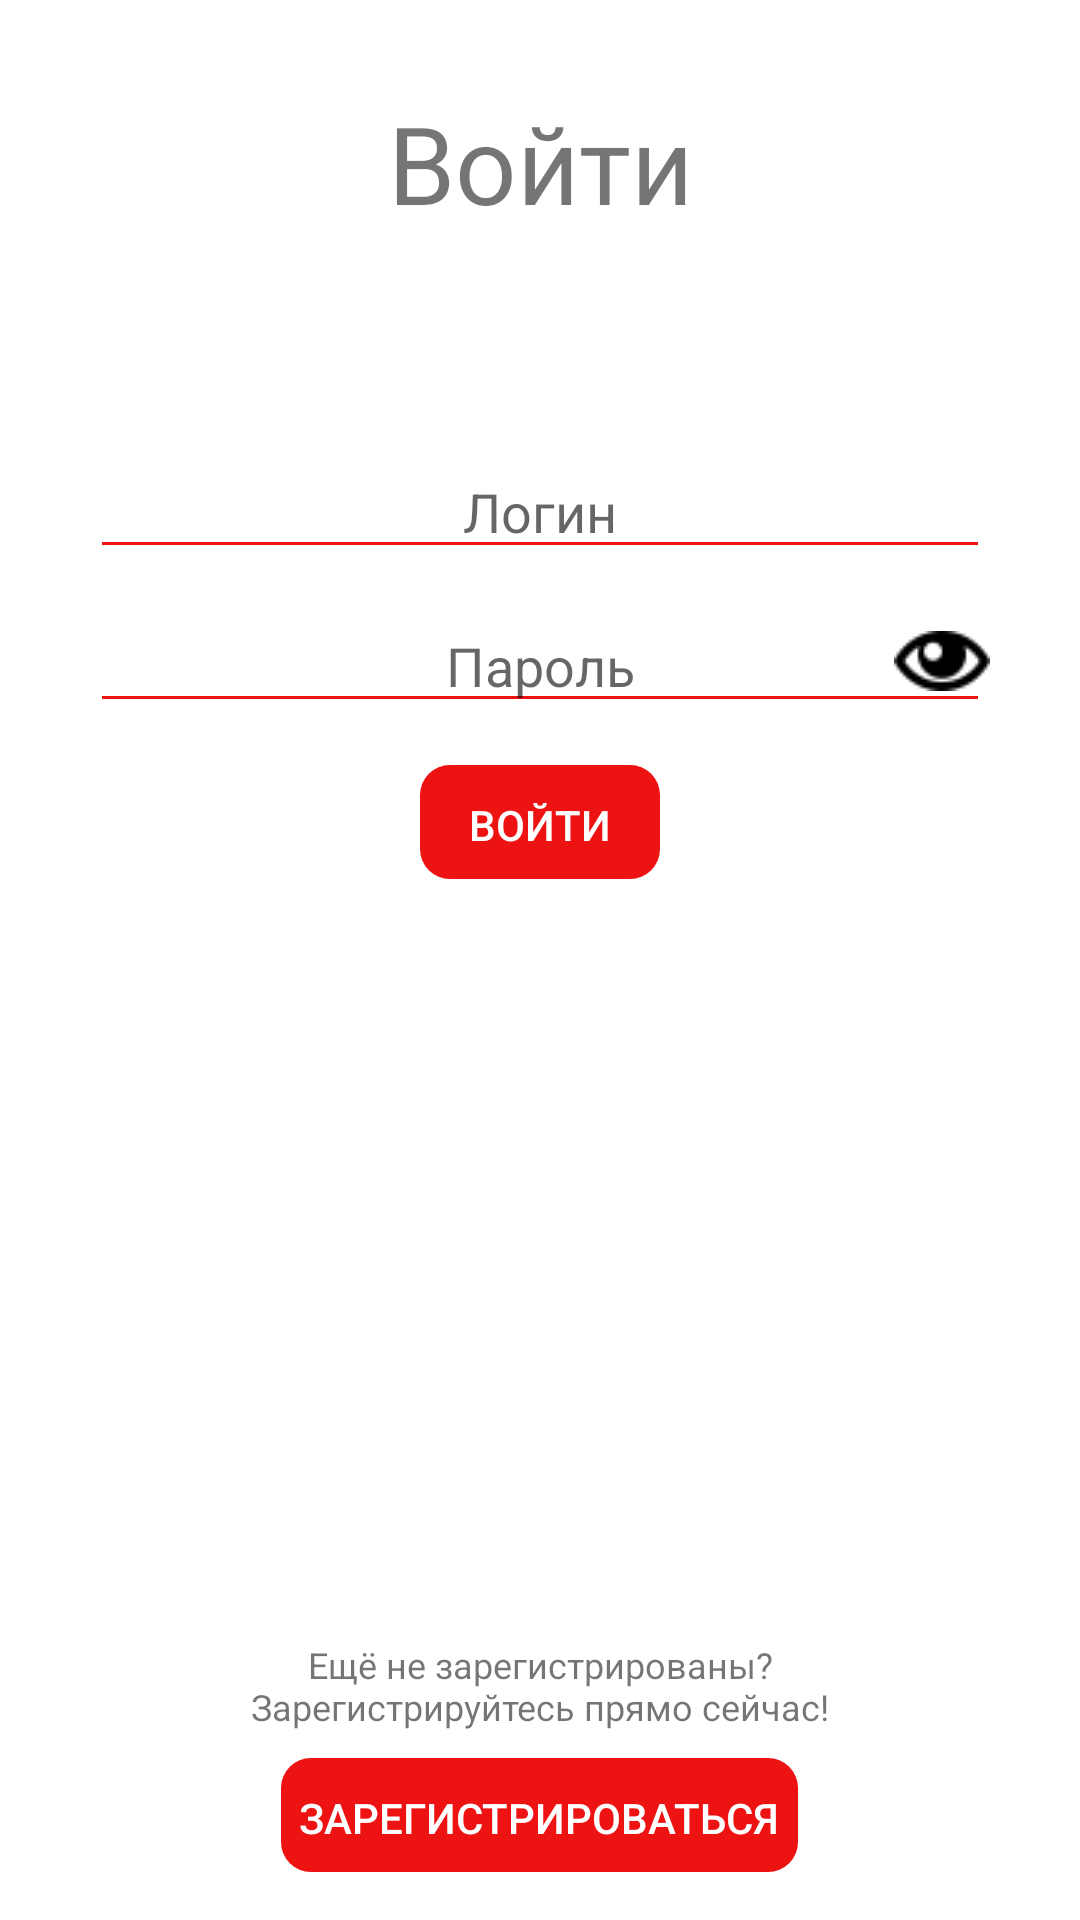

Locate icon controls on the screen. Image size 1080 × 1920, boxes as (x1, y1, x2, y2).
show password: (894, 631, 990, 691)
